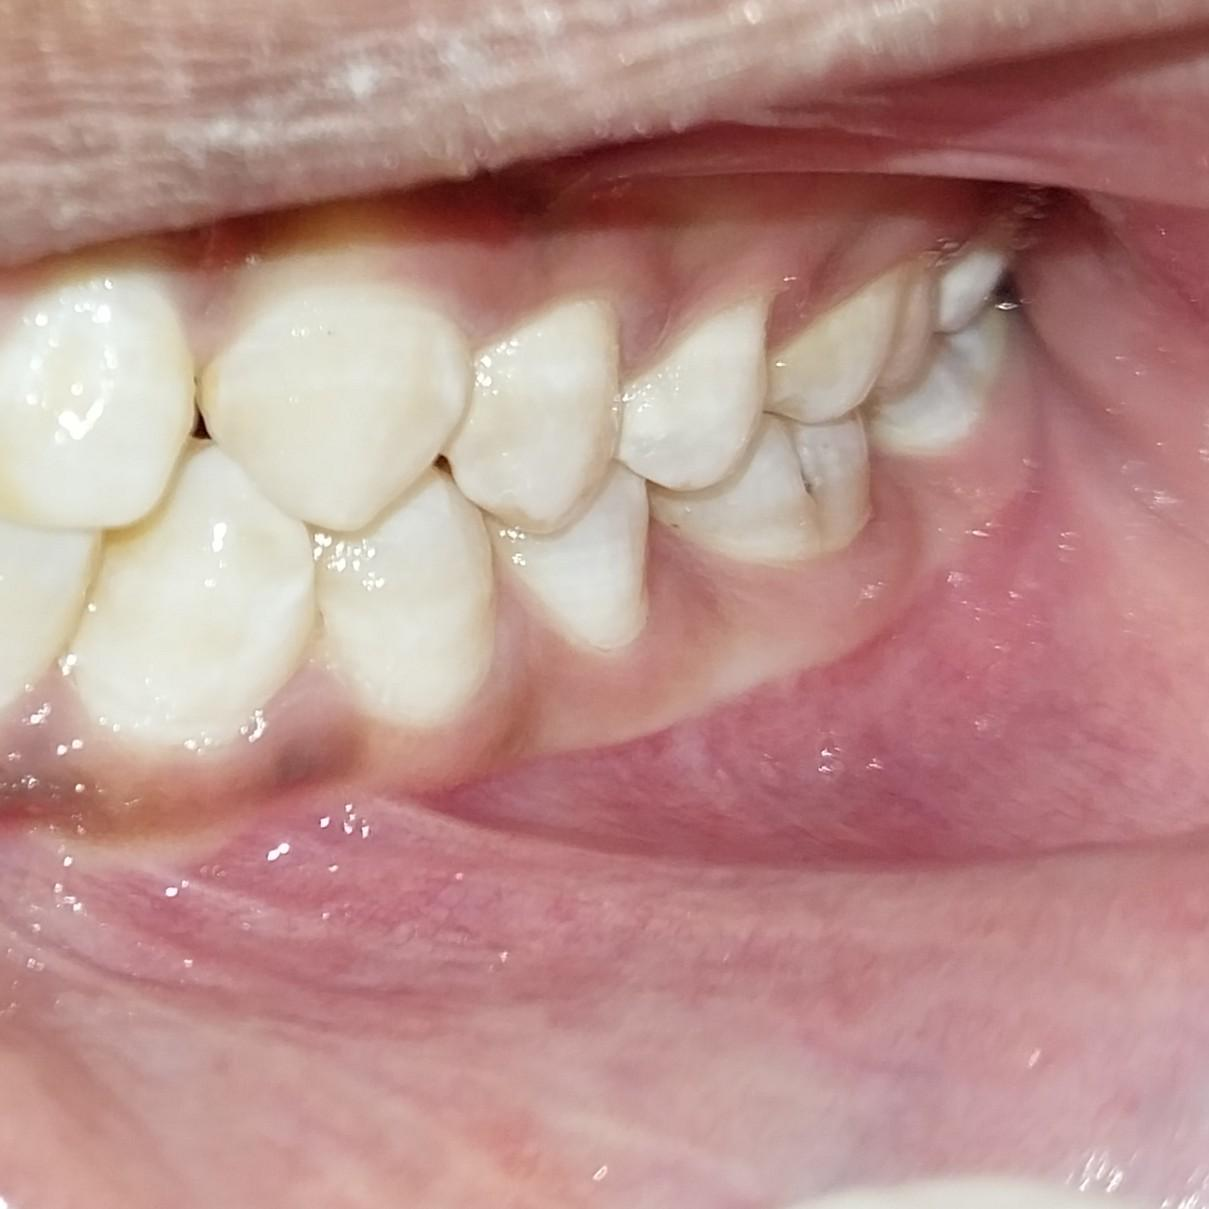D: (647, 411, 878, 566)
